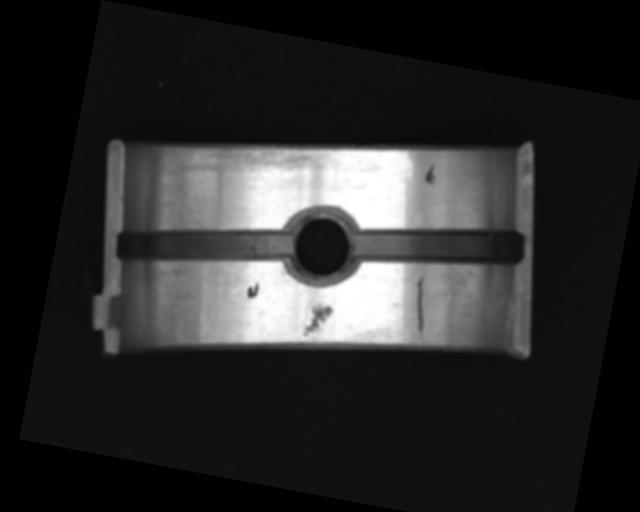blot: (244, 278, 262, 301)
bruise: (301, 301, 333, 340), (424, 163, 438, 185)
gap: (114, 201, 295, 289), (351, 204, 524, 290)
hole: (280, 201, 365, 288)
nick: (406, 275, 434, 340)
scratch: (181, 122, 333, 195)
